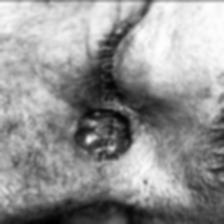Potentially Malignant Skin Tumors: (76, 106, 100, 165)
